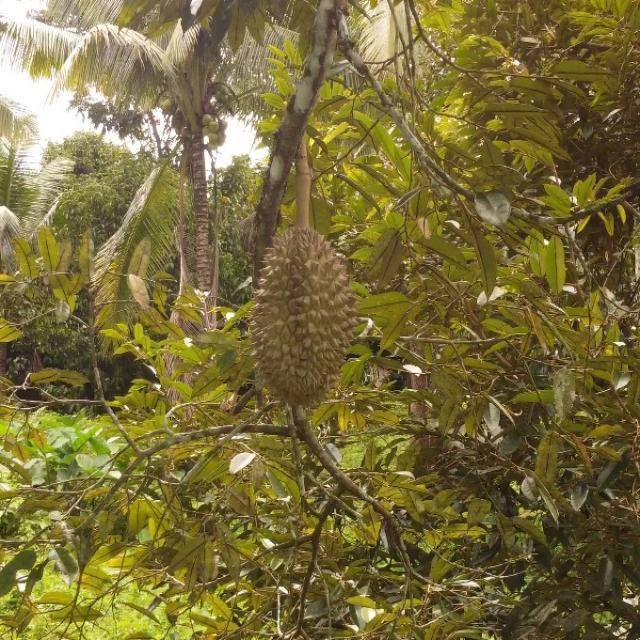mature: (247, 222, 357, 404)
